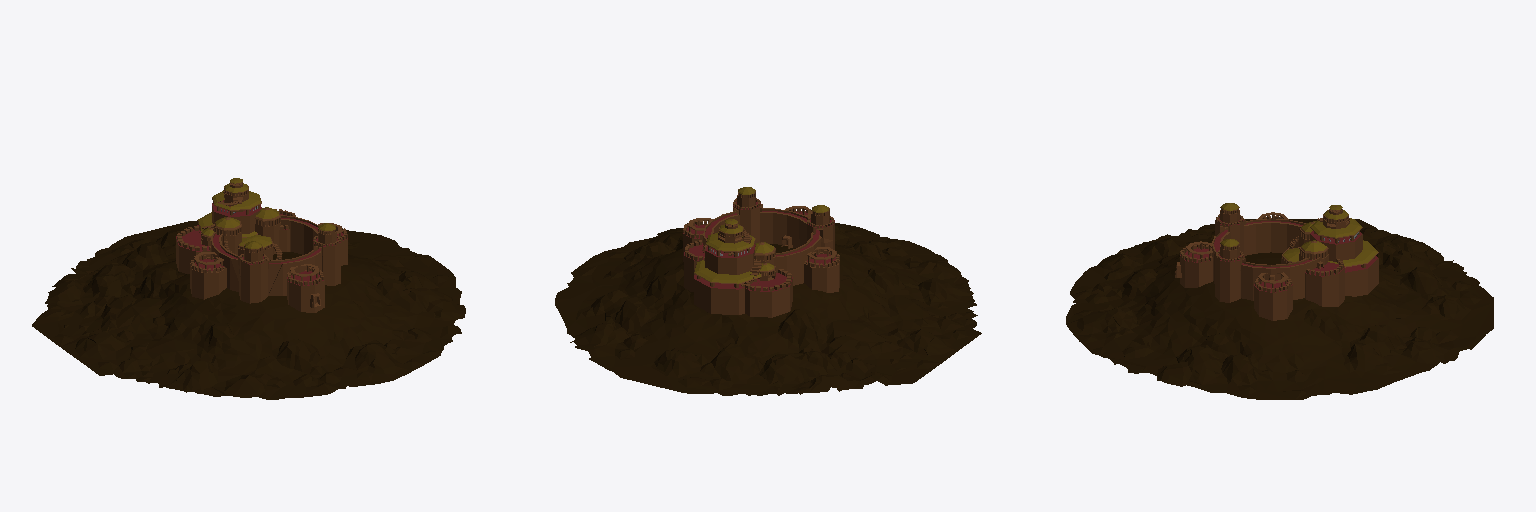
Rendered from easternancientcastle.obj.
3 renders of one model, left to right at view 1: azimuth 30°, elevation 25°; view 2: azimuth 150°, elevation 25°; view 3: azimuth 270°, elevation 25°, orthographic.
Visible parts, largest first — view 1: Terrain_1, eastern_ancient_casttle_-_Copy; view 2: Terrain_1, eastern_ancient_casttle_-_Copy; view 3: Terrain_1, eastern_ancient_casttle_-_Copy.
Boxes of the visible parts, x1=… form: Terrain_1: x1=32, y1=221, x2=465, y2=399; eastern_ancient_casttle_-_Copy: x1=176, y1=178, x2=347, y2=312; Terrain_1: x1=555, y1=223, x2=981, y2=395; eastern_ancient_casttle_-_Copy: x1=683, y1=187, x2=839, y2=317; Terrain_1: x1=1066, y1=219, x2=1493, y2=399; eastern_ancient_casttle_-_Copy: x1=1175, y1=203, x2=1378, y2=320.
Size of the model in its own units: 13.94 by 3.87 by 13.94.